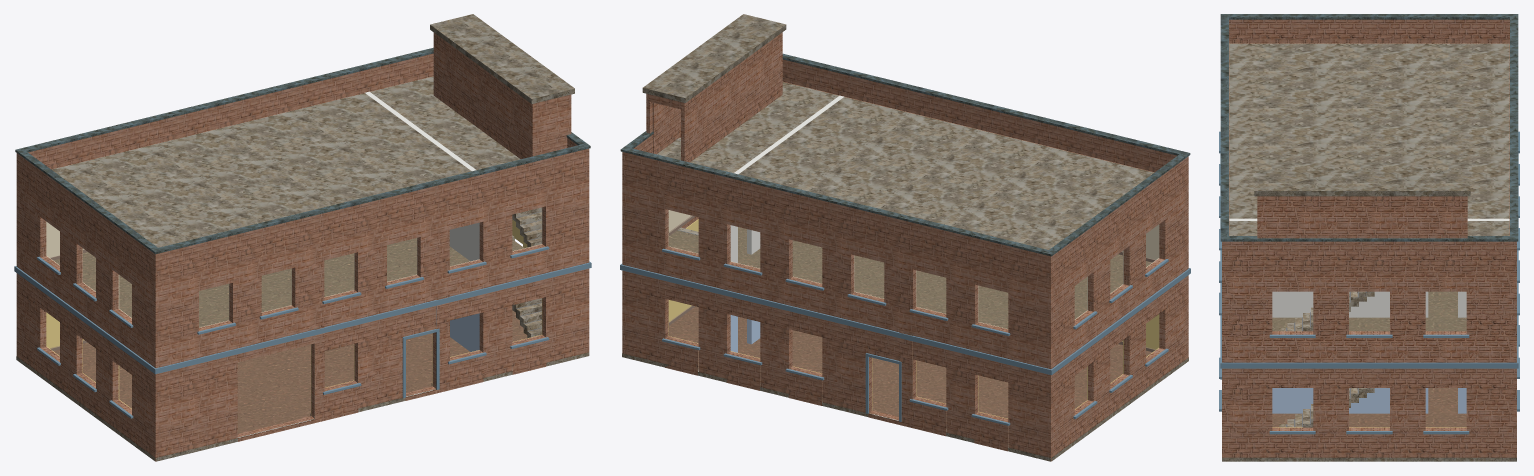
Rendered from ew-workshop.windows-v1.lod0.glb.
3 views of the same model, side by side, from view 1: azimuth 30°, elevation 25°; view 2: azimuth 150°, elevation 25°; view 3: azimuth 270°, elevation 25° (orthographic). The views are drawn at different scales.
Parts seen in each view (by area): view 1: ew-workshop; view 2: ew-workshop; view 3: ew-workshop.
Part boxes in pixels (left/top/right/bottom): ew-workshop: left=14, top=14, right=591, bottom=461; ew-workshop: left=620, top=14, right=1190, bottom=461; ew-workshop: left=1219, top=14, right=1519, bottom=461.
Size of the model in its own units: 18.2 by 10.17 by 10.2.
Materials: 4 (3 with a texture image).
